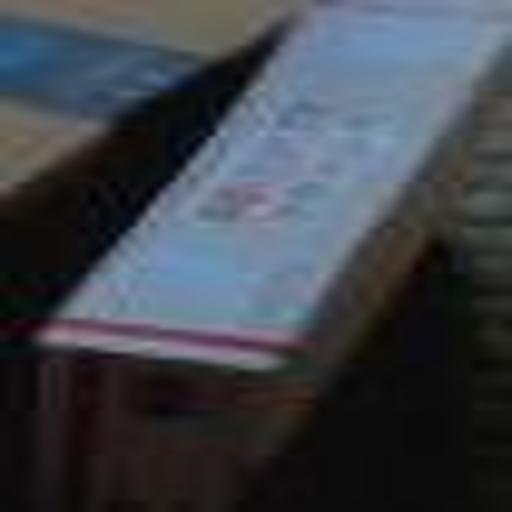Amazon: (0, 0, 280, 273)
Other: (44, 20, 504, 417)
